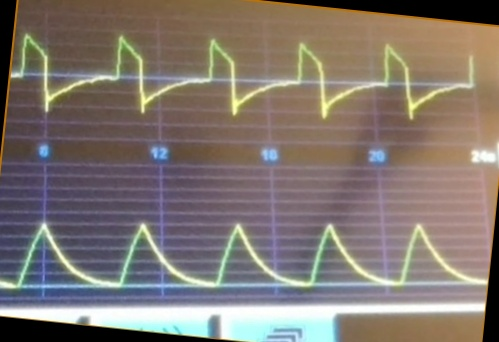Normal Flow: (14, 22, 475, 130)
Normal Volume: (1, 215, 485, 295)
